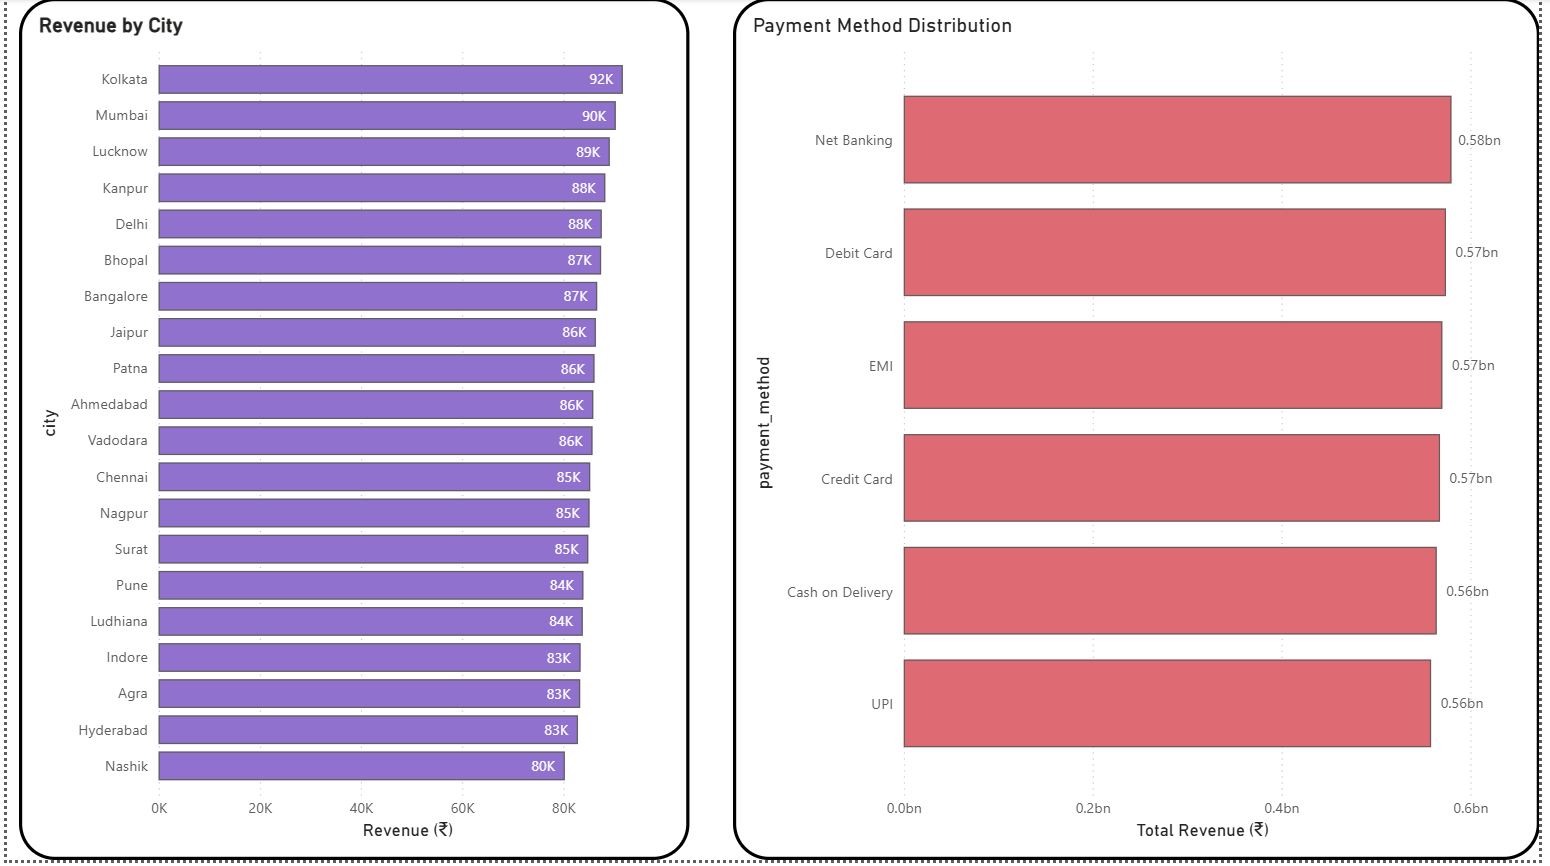

This screenshot's page, from the dashboard's own definition file:
{"tool":"powerbi","page":{"name":"City & Payments","canvas":[1280,720],"ordinal":2},"visuals":[{"type":"clusteredBarChart","title":"Revenue by City","fields":{"Category":["powerbi_city_performance.city"],"Y":["Sum(powerbi_city_performance.revenue)"]},"box":[10,0,560,720],"z":0},{"type":"clusteredBarChart","title":"Payment Method Distribution","fields":{"Category":["powerbi_payments.payment_method"],"Y":["Sum(powerbi_payments.total_amount)"]},"box":[606,0,674,720],"z":1}]}

Visuals, with their boxes in screenshot pixels (x1, y1, x2, y2), scaled from the page's 1280x720 canvas onto the 1550x866 screenshot:
"Revenue by City" clusteredBarChart: pyautogui.locateOnScreen(12, 0, 690, 865)
"Payment Method Distribution" clusteredBarChart: pyautogui.locateOnScreen(734, 0, 1549, 865)
